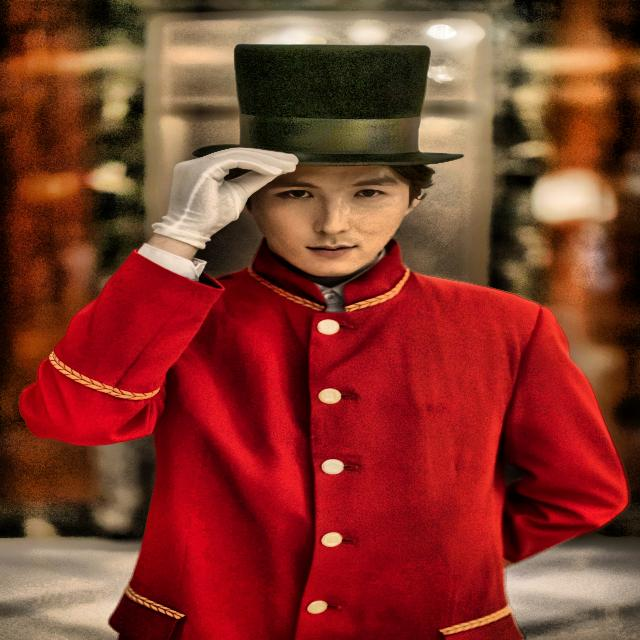gloved: (144, 152, 308, 258)
